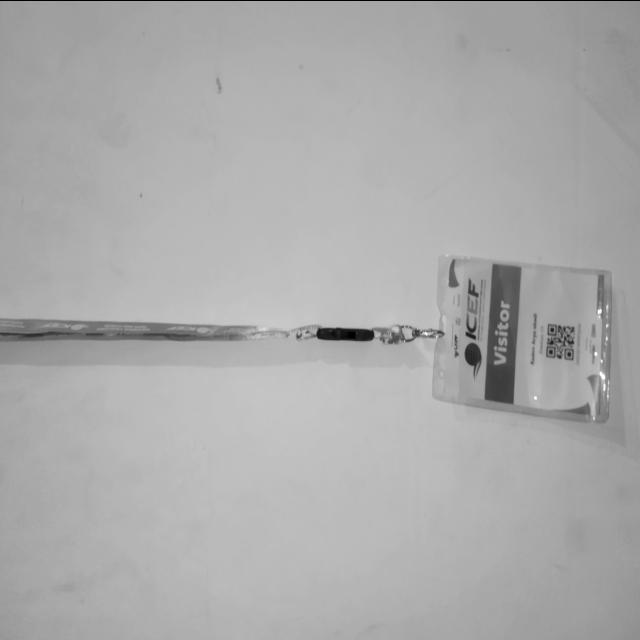ID_card: (431, 253, 613, 424)
